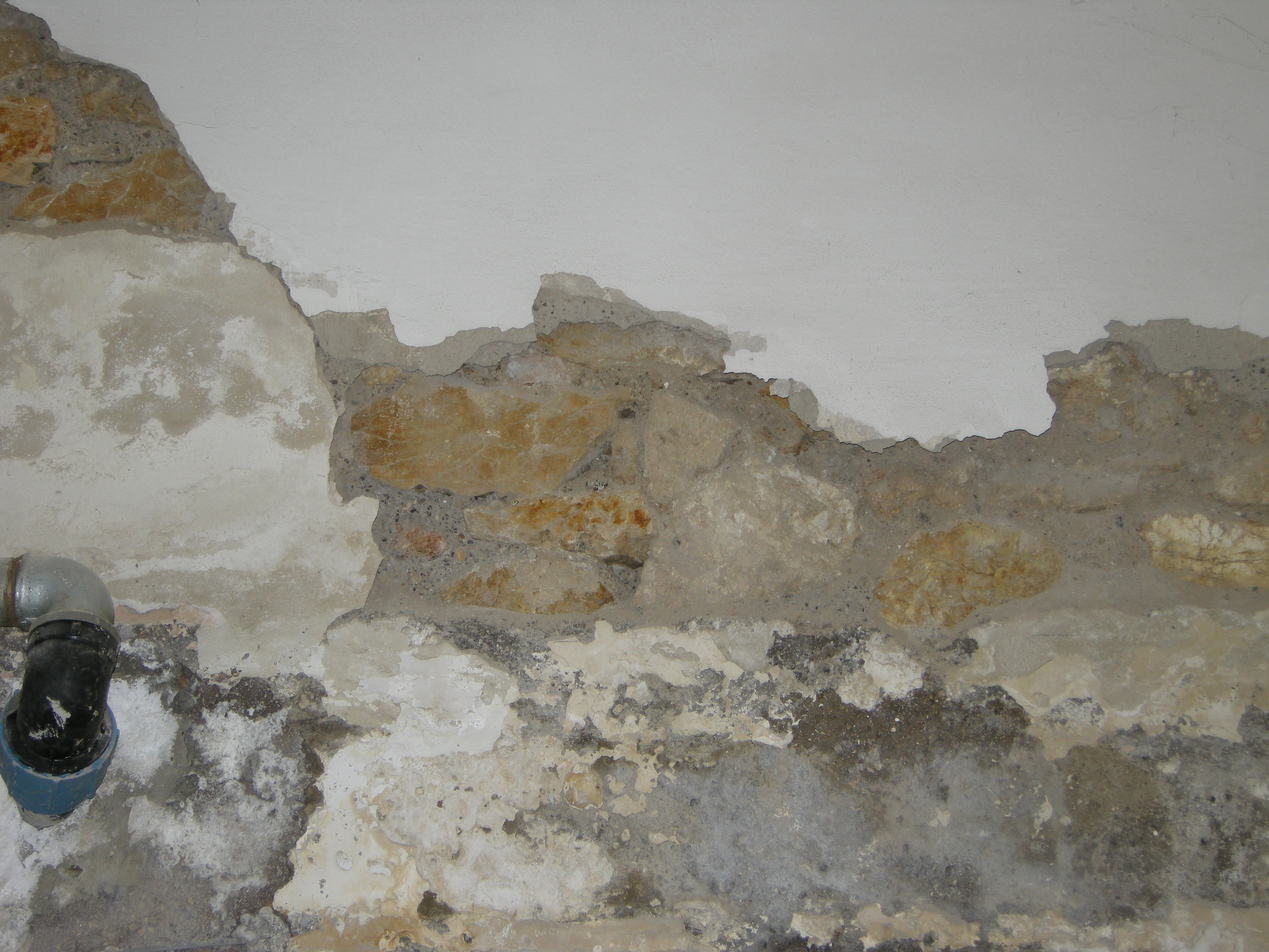Spalling: (16, 8, 1227, 939)
